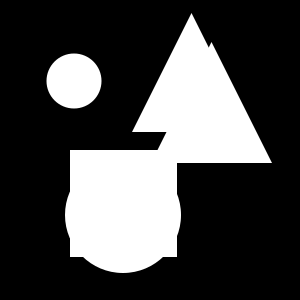circle: (70, 150, 177, 257)
rectangle: (65, 157, 181, 273), (47, 54, 102, 109)
triangle: (151, 42, 272, 163), (132, 13, 251, 132)
